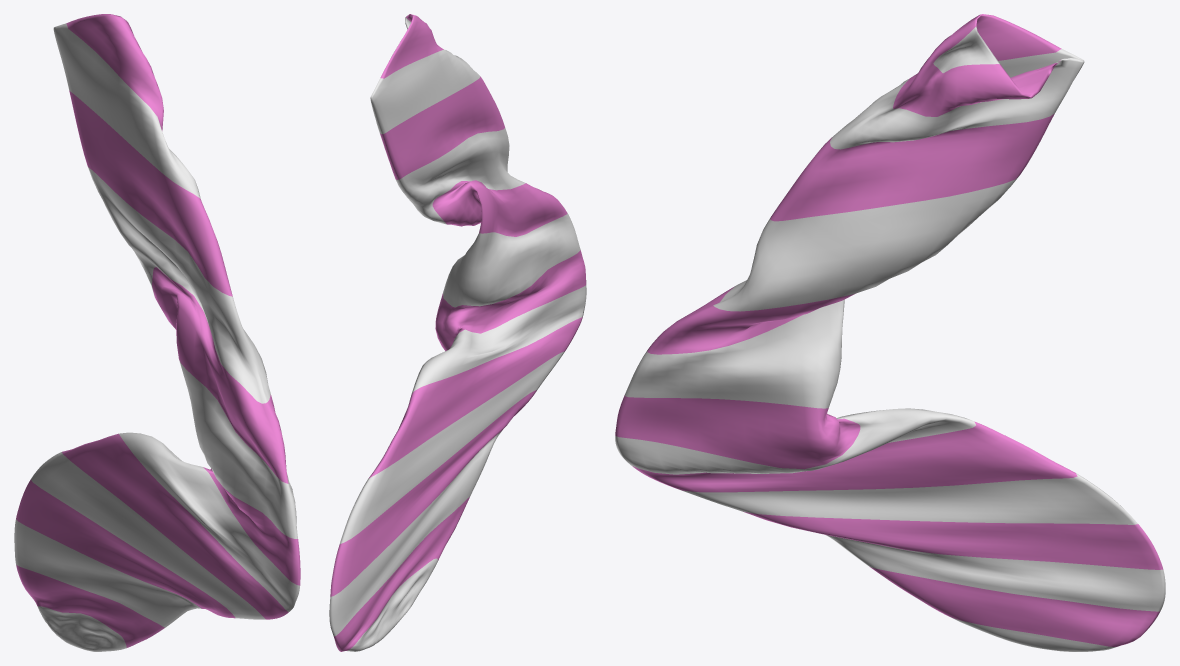
File: CALCETIN.fbx
3 views of the same model, side by side, from view 1: azimuth 30°, elevation 25°; view 2: azimuth 150°, elevation 25°; view 3: azimuth 270°, elevation 25° (orthographic). The views are drawn at different scales.
Visible parts, largest first — view 1: Plane.002; view 2: Plane.002; view 3: Plane.002.
Part boxes in pixels (x1,y1,x2,y2): Plane.002: (14, 14, 300, 651); Plane.002: (329, 14, 586, 651); Plane.002: (615, 14, 1165, 651).
Size of the model in its own units: 16.35 by 156 by 121.
